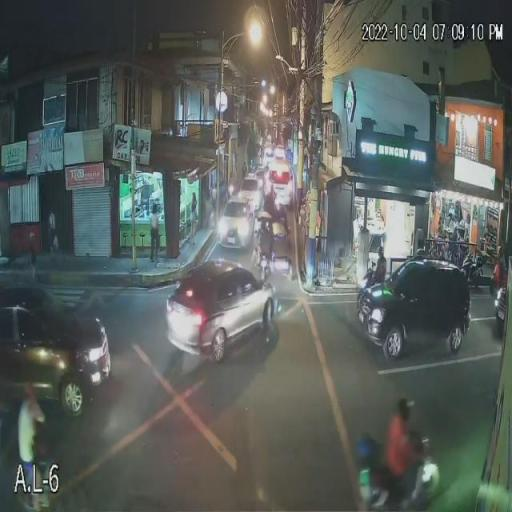helmet: (394, 394, 415, 420), (377, 246, 384, 258)
motorcycle: (356, 449, 441, 507), (362, 269, 377, 287)
rider: (386, 417, 416, 498), (376, 257, 386, 283)
